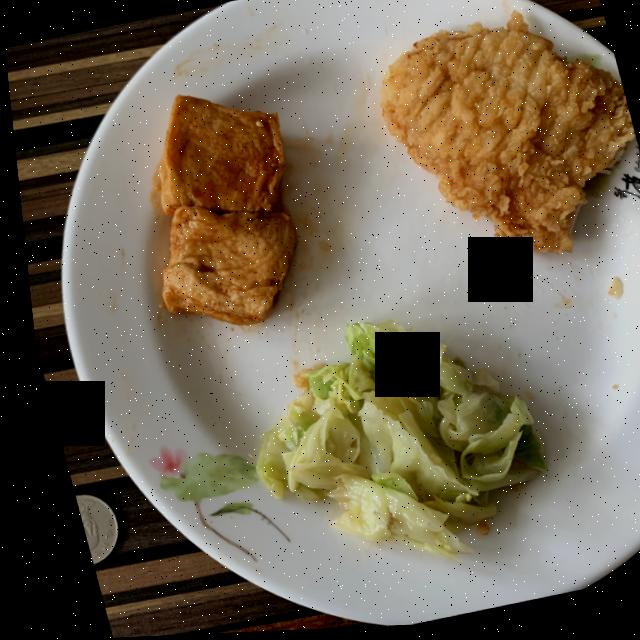cabbage: (245, 322, 534, 562)
coin: (64, 494, 107, 563)
creamy tofu: (155, 96, 291, 327)
fried chicken cutlet: (378, 15, 632, 258)
